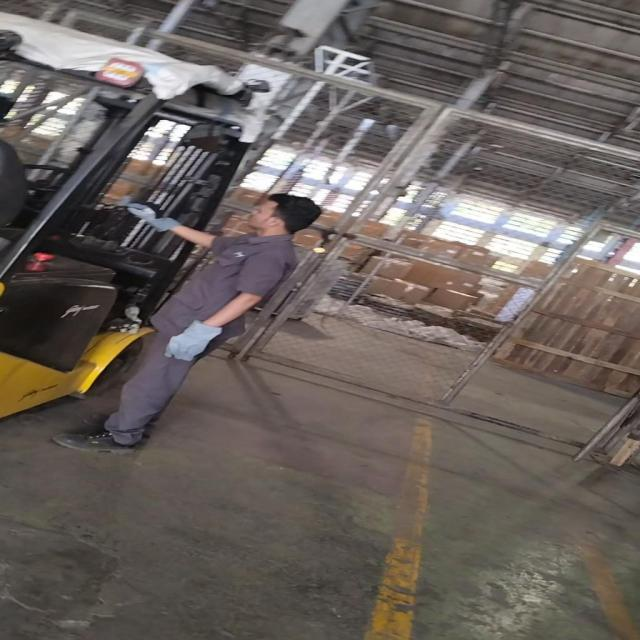Gloves-Detection: (165, 316, 219, 358), (130, 198, 180, 241)
